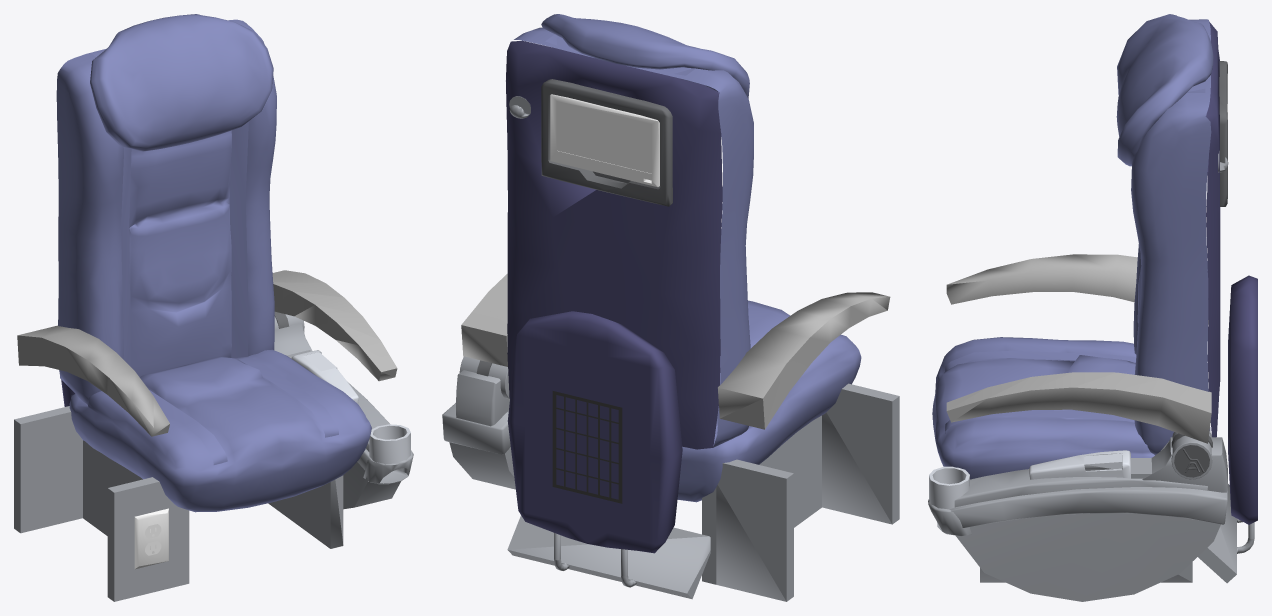
File: asiento5.gltf
The picture shows the model from 3 angles, left to right: view 1: azimuth 30°, elevation 25°; view 2: azimuth 150°, elevation 25°; view 3: azimuth 270°, elevation 25°; orthographic projection. The views are drawn at different scales.
Parts seen in each view (by area): view 1: Recargadera_fron, Asiento, Descanzanuca, Descanza_brazos, Plastico_3, Plastico_4, Costuras, Plastico_5, Plastico_1, Costura, Plastico_, Socket_tapa (+3 smaller); view 2: Recargadera_tras, Descanza_pies, Descanza_brazos, Recargadera_fron, Plastico_3, Plastico_4, Asiento, Eje_de_Descanzapies, Descanzanuca, Porta_pantalla, Pantalla_Luz, Plastico_ (+6 smaller); view 3: Recargadera_fron, Plastico_2, Descanza_brazos, Asiento, Plastico_1, Descanzanuca, Descanza_pies, Recargadera_tras, Costura, Porta_boton, Eje_de_Descanzapies, Porta_vasos (+5 smaller).
Boxes of the visible parts, <box> form: Recargadera_fron: <box>56,19,276,404</box>; Asiento: <box>69,349,371,512</box>; Descanzanuca: <box>90,14,273,151</box>; Descanza_brazos: <box>17,270,397,436</box>; Plastico_3: <box>14,406,82,533</box>; Plastico_4: <box>107,477,189,601</box>; Costuras: <box>92,52,248,366</box>; Plastico_5: <box>268,475,343,548</box>; Plastico_1: <box>274,323,413,484</box>; Costura: <box>149,356,338,464</box>; Plastico_: <box>83,440,142,535</box>; Socket_tapa: <box>134,508,168,569</box>; Recargadera_tras: <box>506,40,722,449</box>; Descanza_pies: <box>507,311,682,553</box>; Descanza_brazos: <box>461,273,890,429</box>; Recargadera_fron: <box>514,27,753,447</box>; Plastico_3: <box>716,459,793,601</box>; Plastico_4: <box>822,383,899,524</box>; Asiento: <box>677,300,861,502</box>; Eje_de_Descanzapies: <box>507,515,710,599</box>; Descanzanuca: <box>541,14,749,98</box>; Porta_pantalla: <box>541,79,672,206</box>; Pantalla_Luz: <box>557,101,651,173</box>; Plastico_: <box>702,415,821,584</box>; Recargadera_fron: <box>1131,19,1211,455</box>; Plastico_2: <box>955,513,1220,601</box>; Descanza_brazos: <box>946,254,1211,443</box>; Asiento: <box>932,337,1154,479</box>; Plastico_1: <box>928,437,1227,536</box>; Descanzanuca: <box>1116,14,1213,166</box>; Descanza_pies: <box>1228,275,1257,524</box>; Recargadera_tras: <box>1205,22,1220,437</box>; Costura: <box>945,350,1136,433</box>; Porta_boton: <box>1029,450,1130,479</box>; Eje_de_Descanzapies: <box>1198,484,1236,583</box>; Porta_vasos: <box>929,466,969,509</box>.
Size of the model in its own units: 0.9665 by 1.51 by 0.8964.
